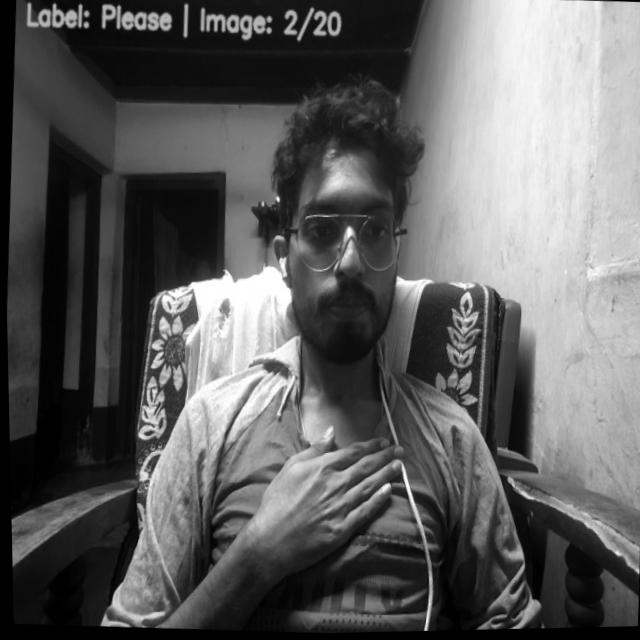Please: (248, 420, 406, 579)
